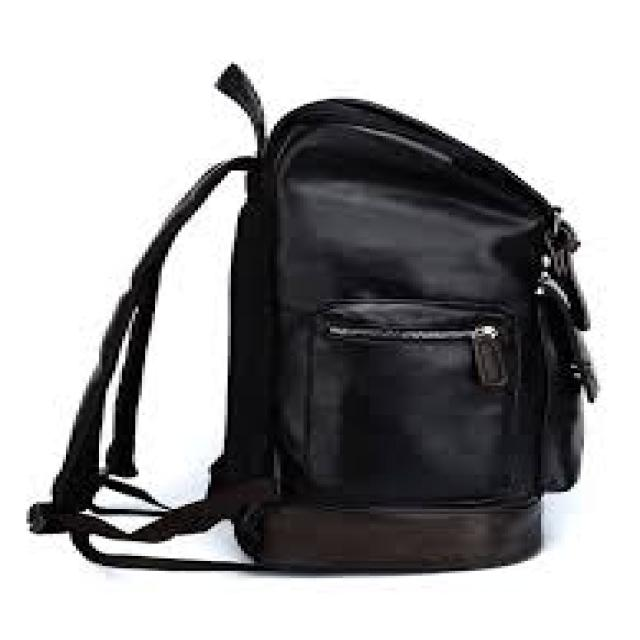backpack: (28, 61, 598, 575)
